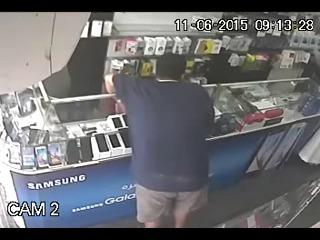Normal: (143, 62, 143, 62)
shoplifting: (102, 56, 224, 227)
